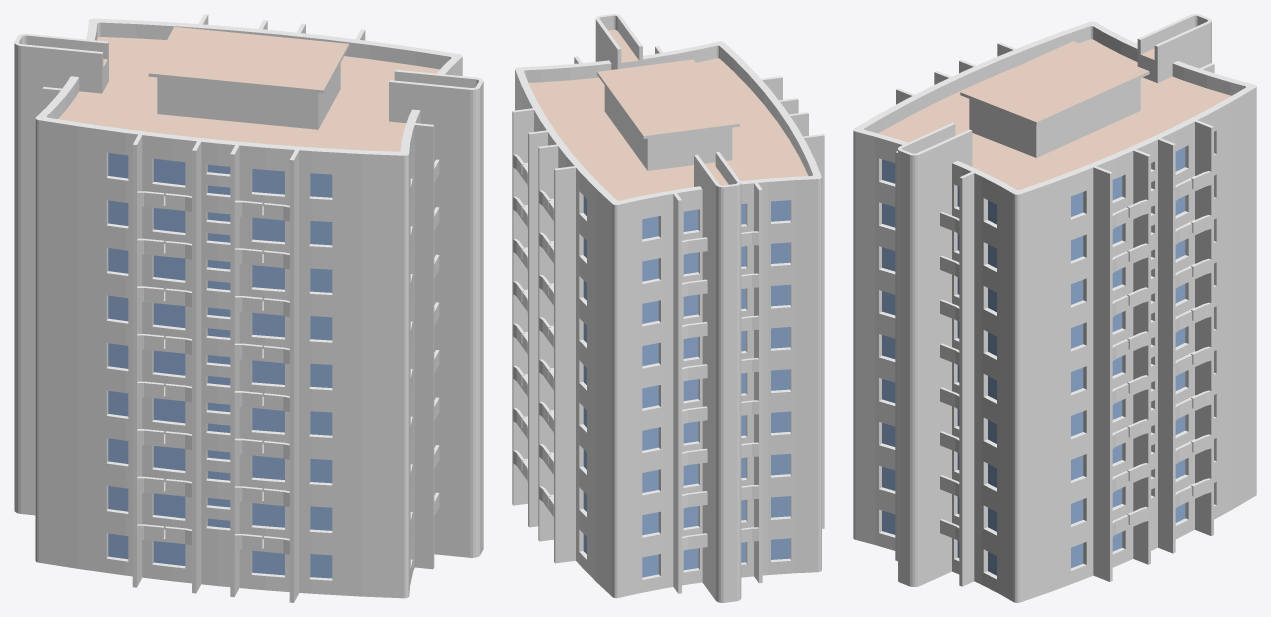
Rendered from zhandosova-saina3.glb.
3 views of the same model, side by side, from view 1: azimuth 30°, elevation 25°; view 2: azimuth 150°, elevation 25°; view 3: azimuth 270°, elevation 25° (orthographic). The views are drawn at different scales.
Parts seen in each view (by area): view 1: wall, walls, window, roof; view 2: wall, walls, roof, window; view 3: wall, walls, roof, window.
Part boxes in pixels (<box>): wall: <box>14,15,483,602</box>; walls: <box>14,14,483,602</box>; window: <box>108,153,332,578</box>; roof: <box>58,26,439,151</box>; wall: <box>513,15,824,602</box>; walls: <box>512,14,824,593</box>; roof: <box>528,29,808,200</box>; window: <box>583,196,790,577</box>; wall: <box>853,15,1256,602</box>; walls: <box>853,14,1256,586</box>; roof: <box>878,39,1231,189</box>; window: <box>882,147,1185,575</box>.
Bounding box in the file's own units: 25.39 × 29.7 × 24.99.
